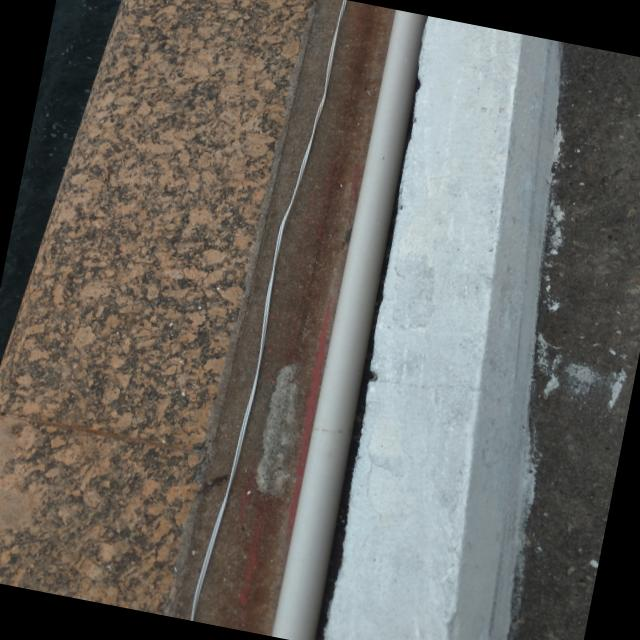gas: (268, 7, 443, 640)
